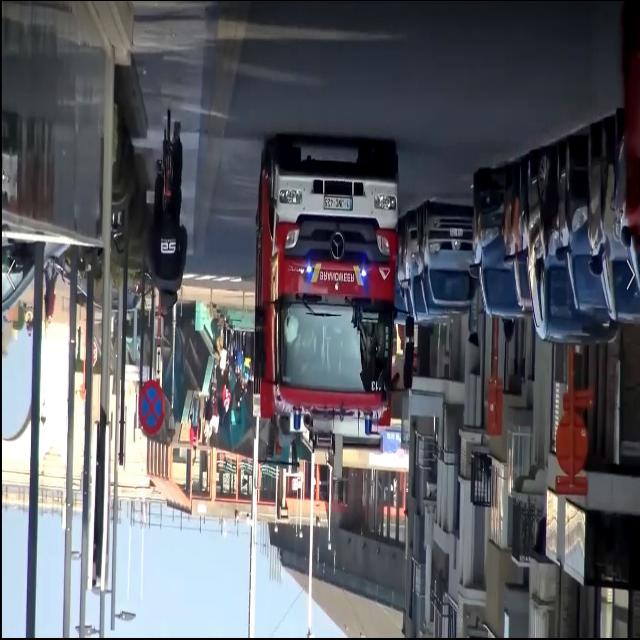emergency: (245, 129, 404, 439)
